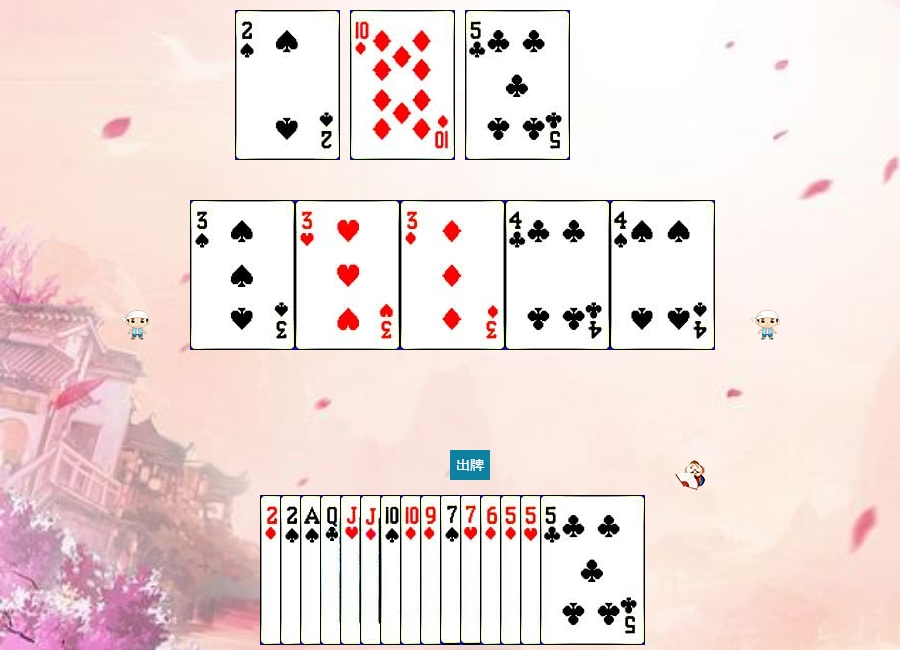10~1: (350, 10, 455, 160), (400, 495, 505, 645)
10~4: (380, 495, 485, 645)
11~1: (360, 495, 465, 645)
11~3: (340, 495, 445, 645)
12~2: (320, 495, 425, 645)
14~4: (300, 495, 405, 645)
15~1: (260, 495, 365, 645)
15~4: (235, 10, 340, 160), (280, 495, 385, 645)
3~1: (400, 200, 505, 350)
3~3: (295, 200, 400, 350)
3~4: (190, 200, 295, 350)
4~2: (505, 200, 610, 350)
4~4: (610, 200, 715, 350)
5~1: (500, 495, 605, 645)
5~2: (465, 10, 570, 160), (540, 495, 645, 645)
5~3: (520, 495, 625, 645)
6~1: (480, 495, 585, 645)
7~3: (460, 495, 565, 645)
7~4: (440, 495, 545, 645)
9~1: (420, 495, 525, 645)
